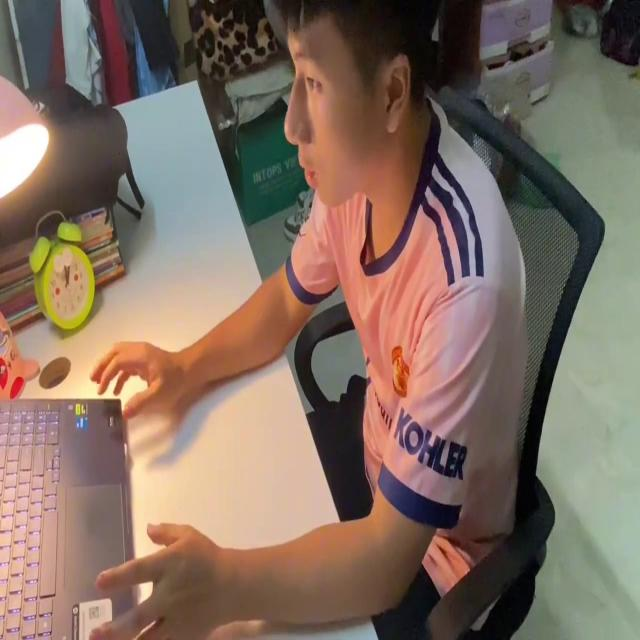laptop: (0, 392, 144, 640)
student: (84, 0, 530, 640)
